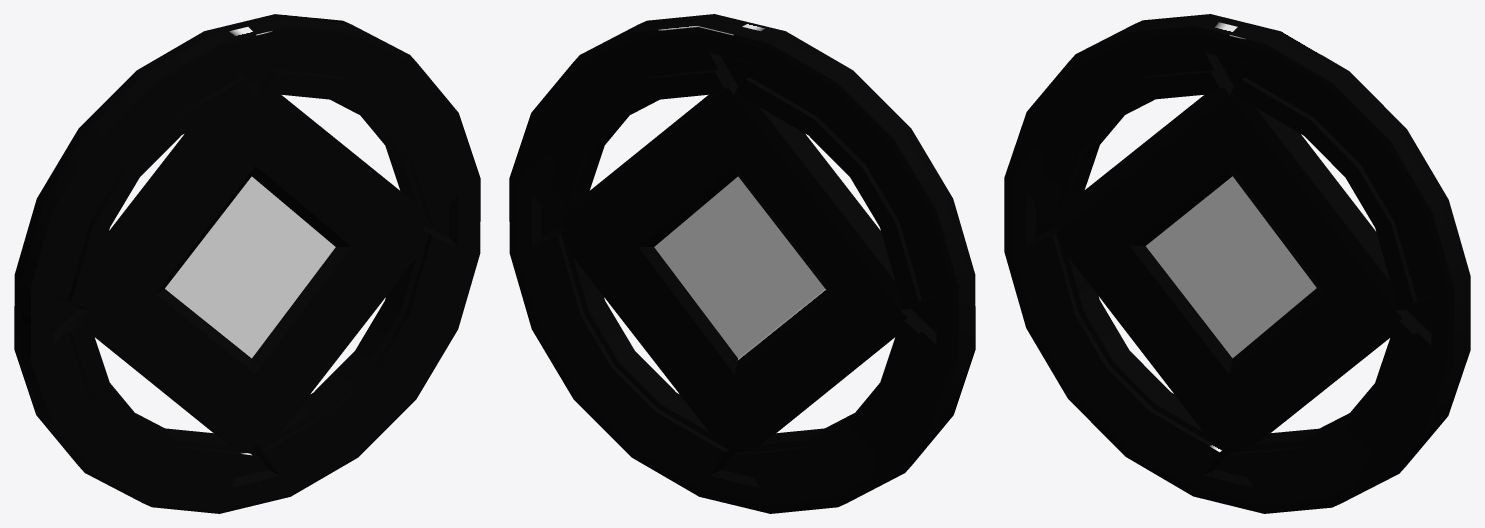
File: fbxRemuneration.fbx
3 views of the same model, side by side, from view 1: azimuth 30°, elevation 25°; view 2: azimuth 150°, elevation 25°; view 3: azimuth 330°, elevation 25° (orthographic).
Visible parts, largest first — view 1: Cylinder.002, Cylinder.001; view 2: Cylinder.002, Cylinder.001; view 3: Cylinder.002, Cylinder.001.
Boxes of the visible parts, box(x1,y1,x2,y2) form: Cylinder.002: box(14, 14, 480, 513); Cylinder.001: box(53, 56, 449, 477); Cylinder.002: box(509, 14, 975, 513); Cylinder.001: box(540, 56, 936, 477); Cylinder.002: box(1004, 14, 1470, 513); Cylinder.001: box(1035, 56, 1431, 477).
Bounding box in the file's own units: 0.7263 × 0.7263 × 0.0642.
